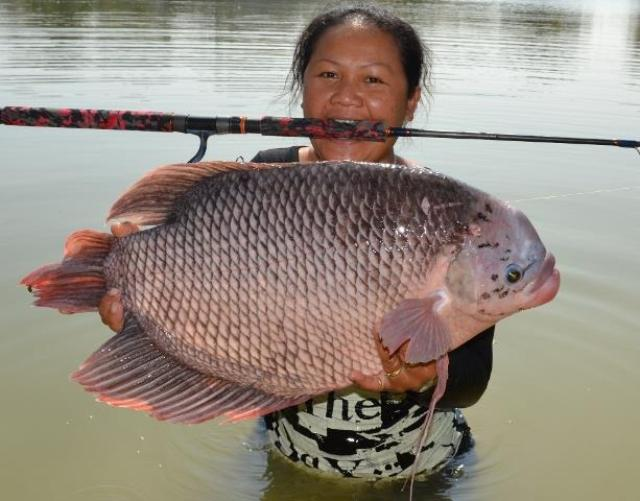Mulut: (490, 236, 586, 331)
Sirip Anal: (61, 314, 306, 440)
Sirip Dada: (348, 282, 462, 374)
Sirip Ekor: (10, 222, 138, 328)
Sirip Perut: (390, 351, 470, 501)
Sirip Punggung: (87, 148, 310, 252)
